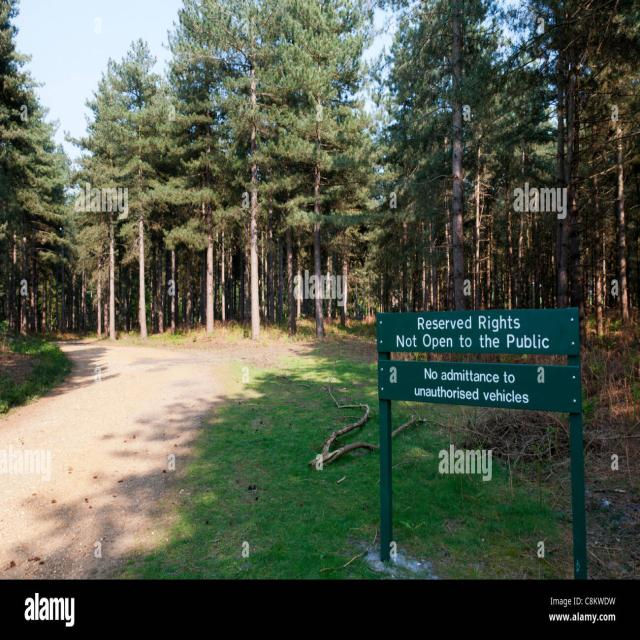Forest: (2, 4, 640, 578)
